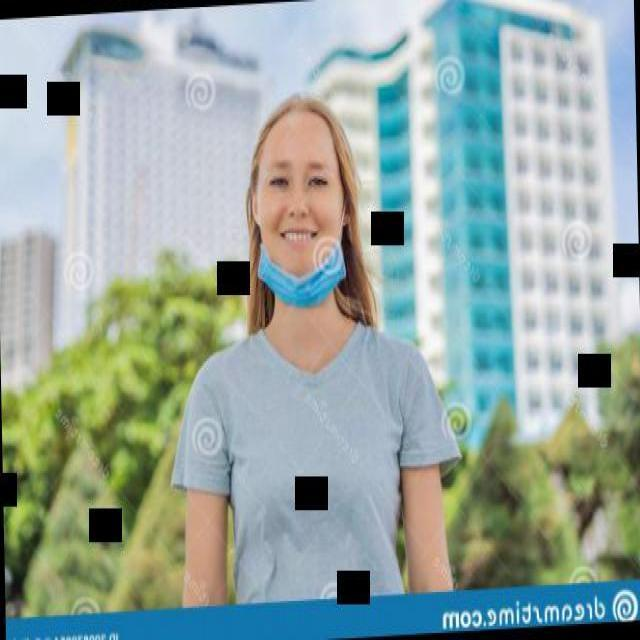hairnet: (258, 193, 346, 311)
